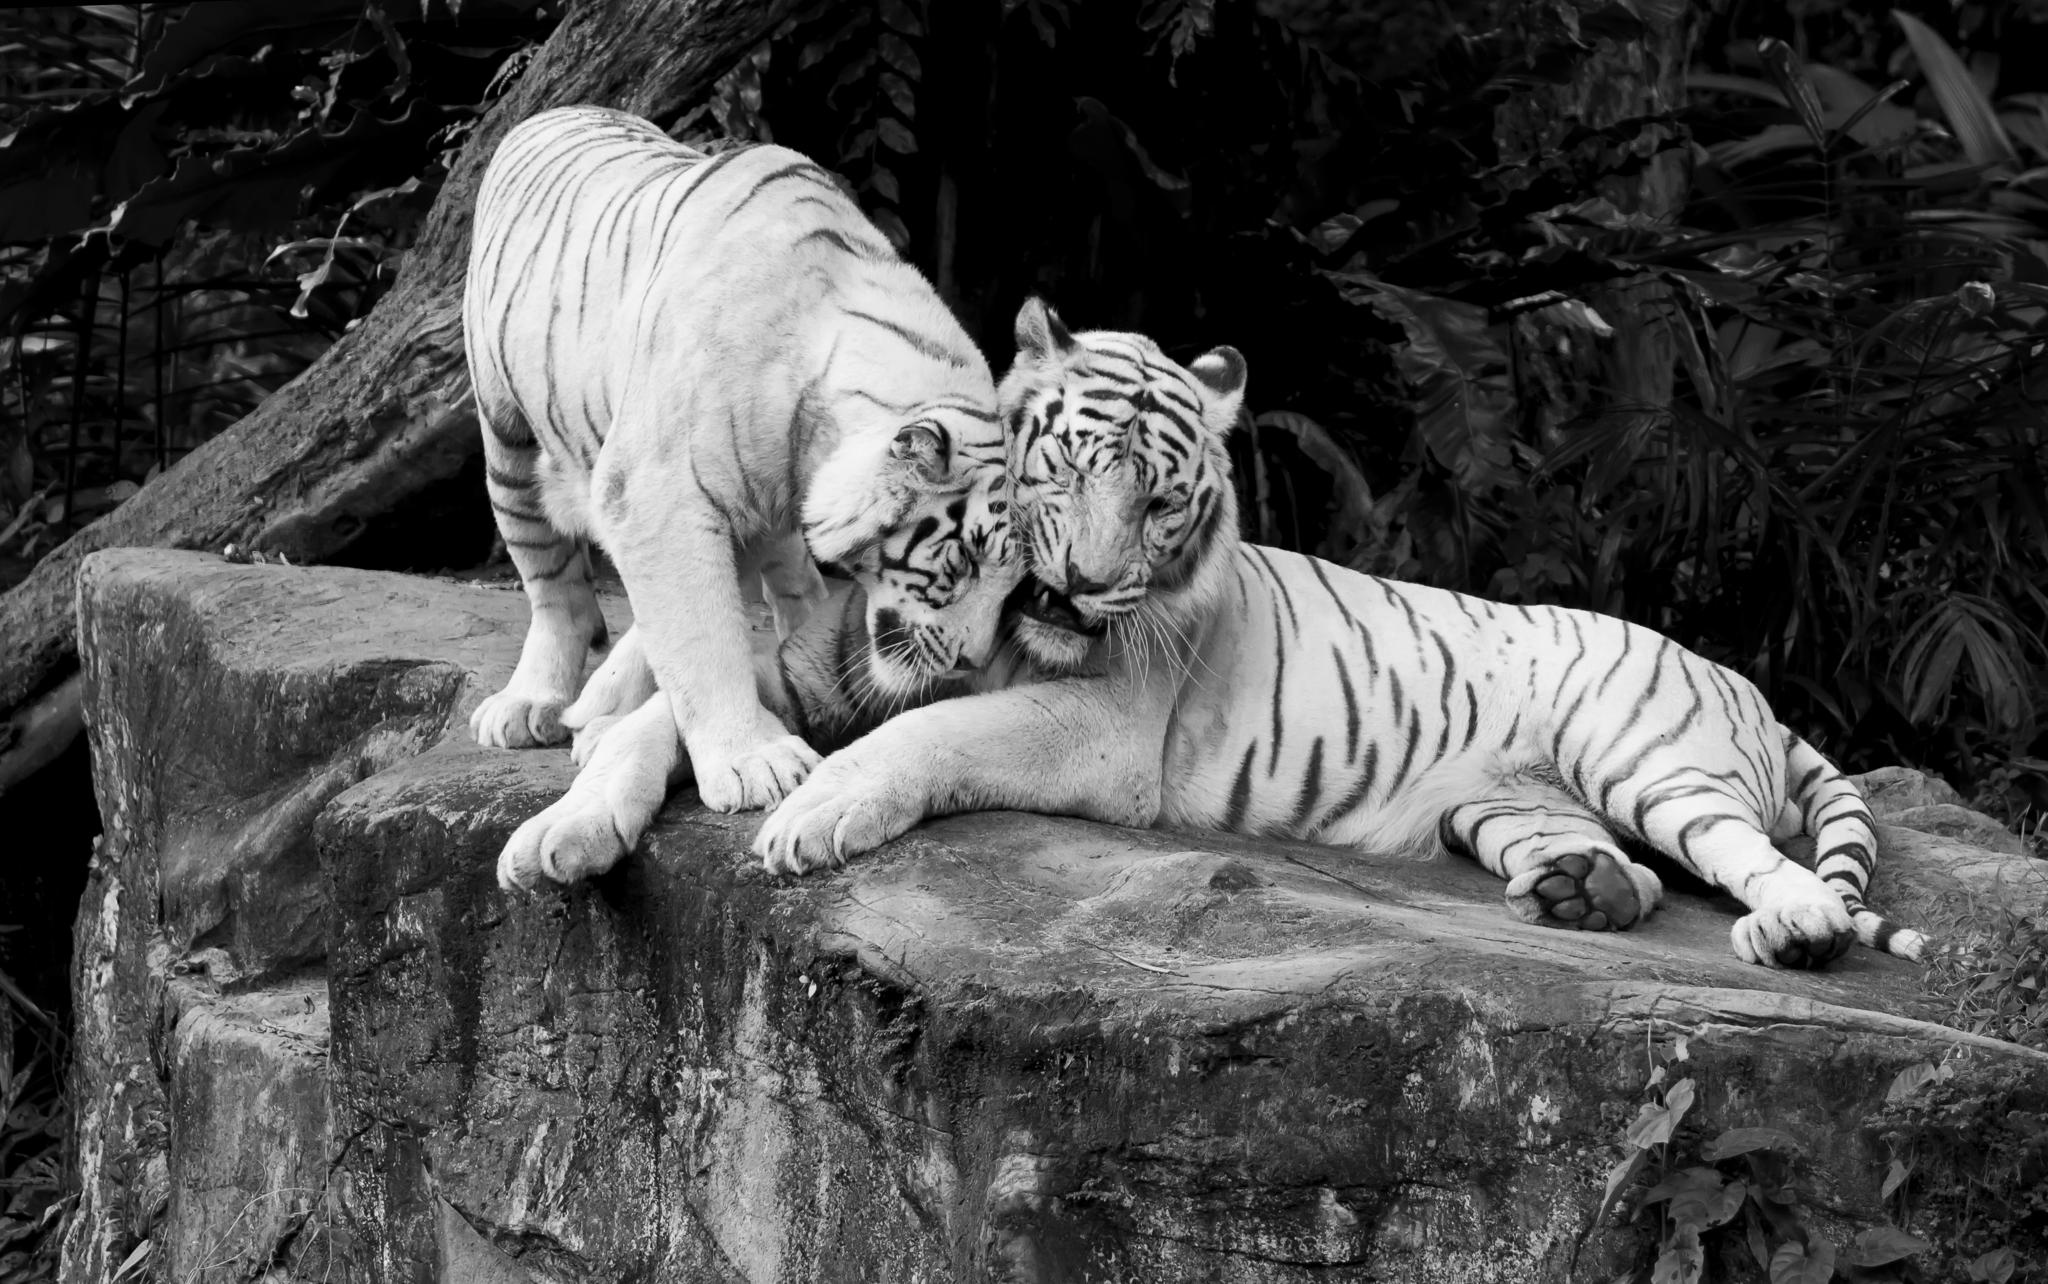tiger: (878, 317, 1924, 967), (424, 71, 1014, 822)
